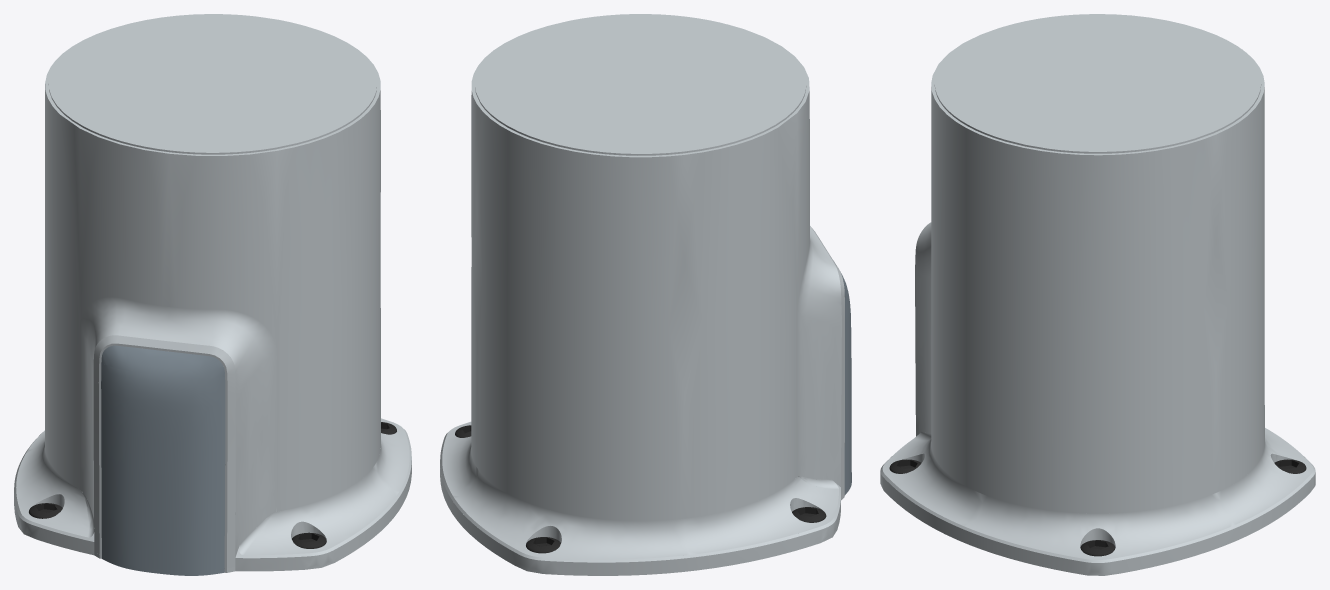
The picture shows the model from 3 angles, left to right: view 1: azimuth 30°, elevation 25°; view 2: azimuth 150°, elevation 25°; view 3: azimuth 270°, elevation 25°; orthographic projection.
Visible parts, largest first — view 1: base.design_diana_v2.base; view 2: base.design_diana_v2.base; view 3: base.design_diana_v2.base.
Part boxes in pixels (x1=…): base.design_diana_v2.base: x1=14, y1=14, x2=411, y2=575; base.design_diana_v2.base: x1=440, y1=14, x2=851, y2=575; base.design_diana_v2.base: x1=880, y1=14, x2=1315, y2=575.
Bounding box in the file's own units: 0.1827 × 0.1827 × 0.1858.
